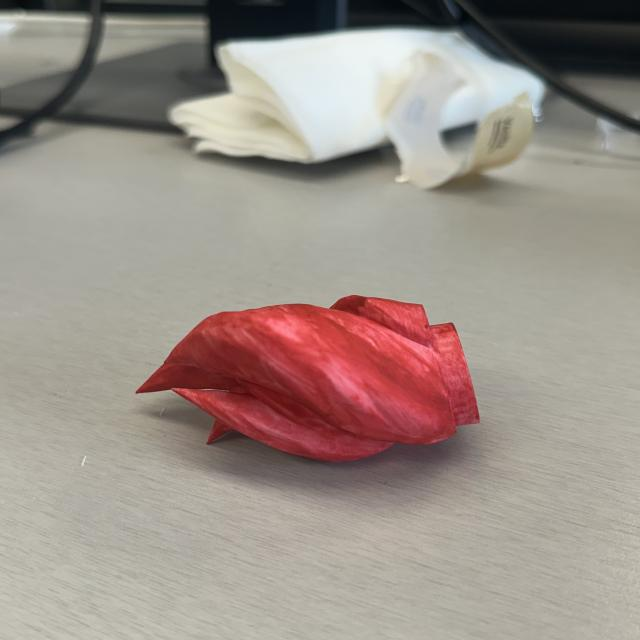fire: (132, 294, 485, 464)
